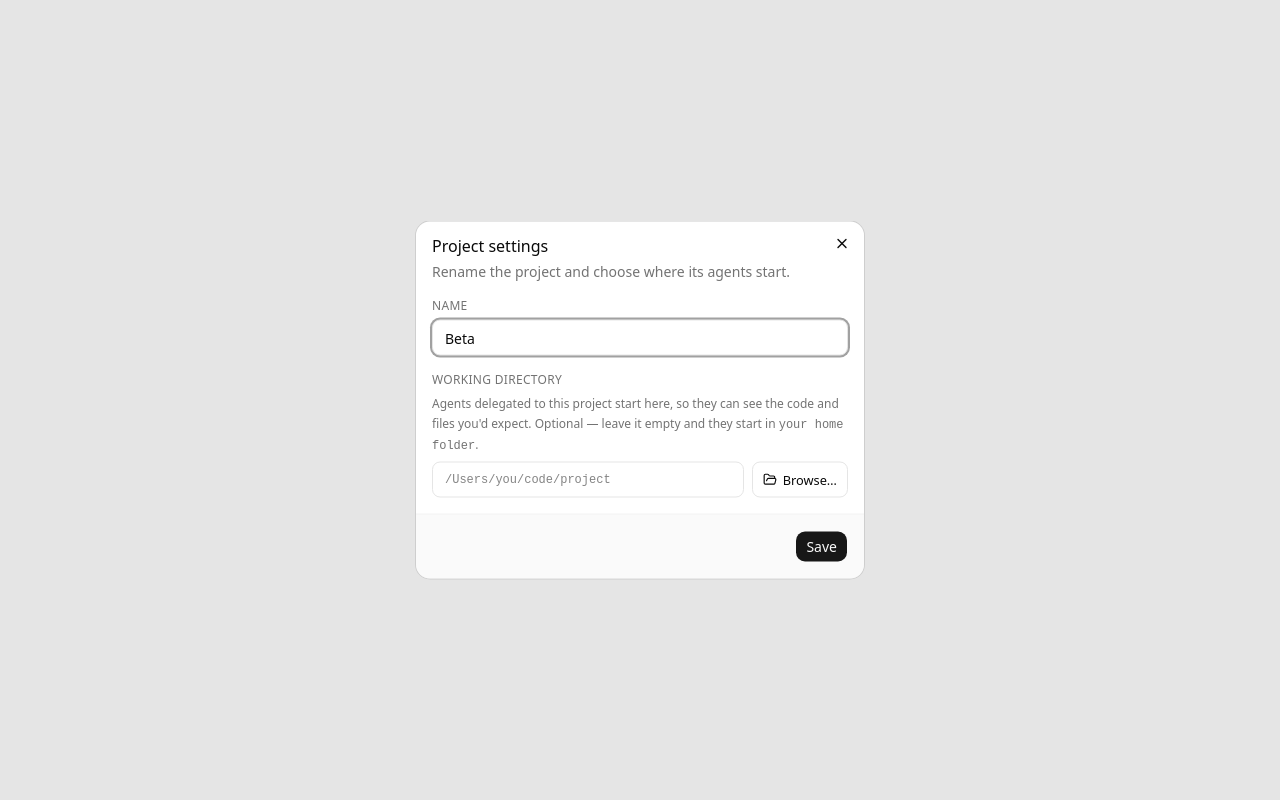
it: the working directory › refuses a ~ path instead of saving something that can never work
Expected: the field labelled "Name" holds "Beta", x1=432 y1=320 x2=848 y2=356
In the field labelled "Working directory": (588, 480) x1=432 y1=462 x2=744 y2=498, type "~/code/beta"
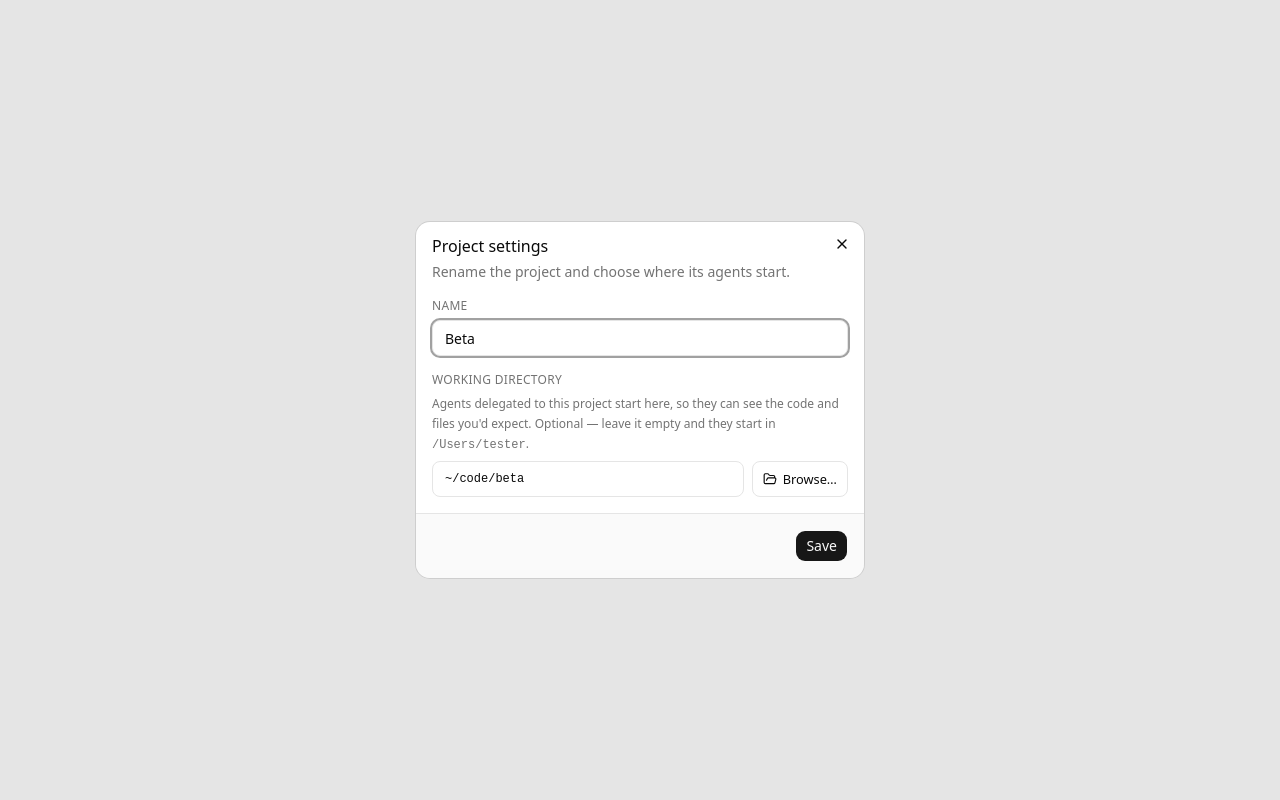
Click the button "Save": (822, 546) x1=795 y1=530 x2=848 y2=562
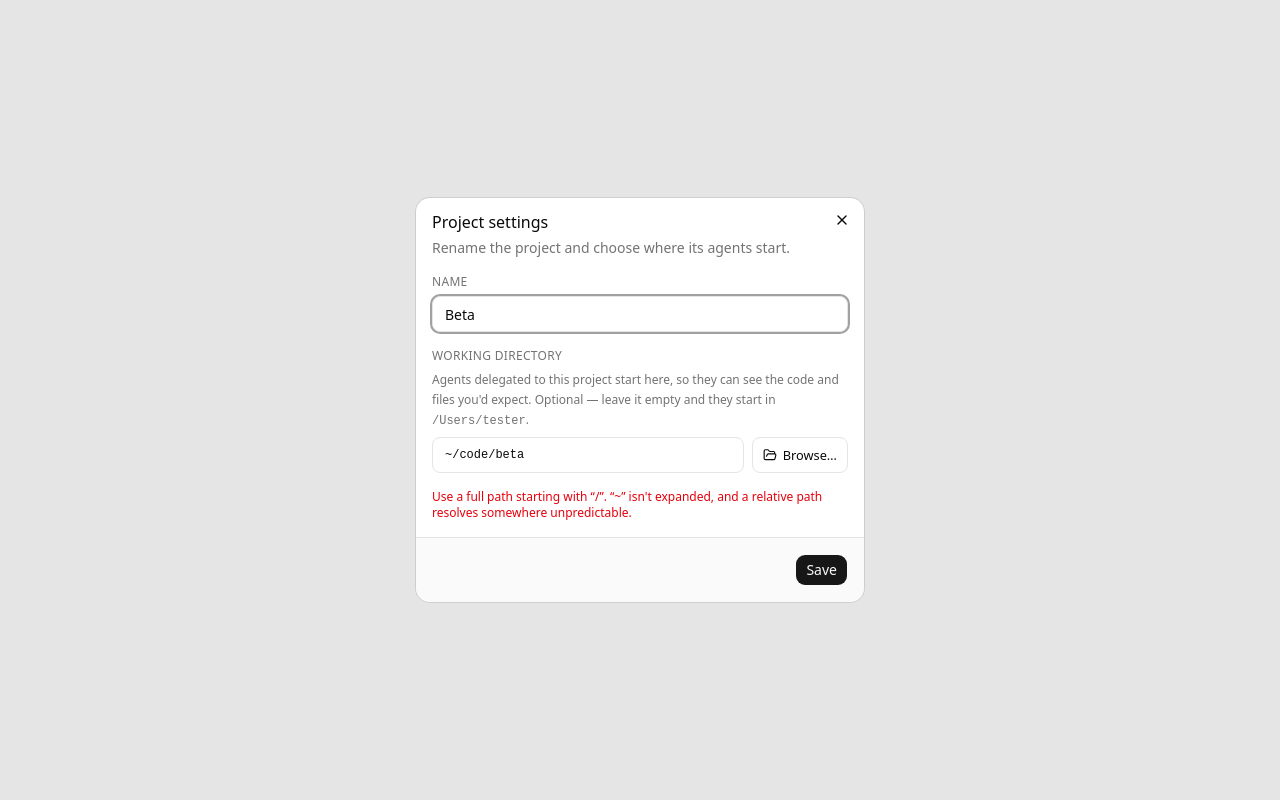
Now the text "full path starting with" is shown, box x1=432 y1=488 x2=822 y2=521
